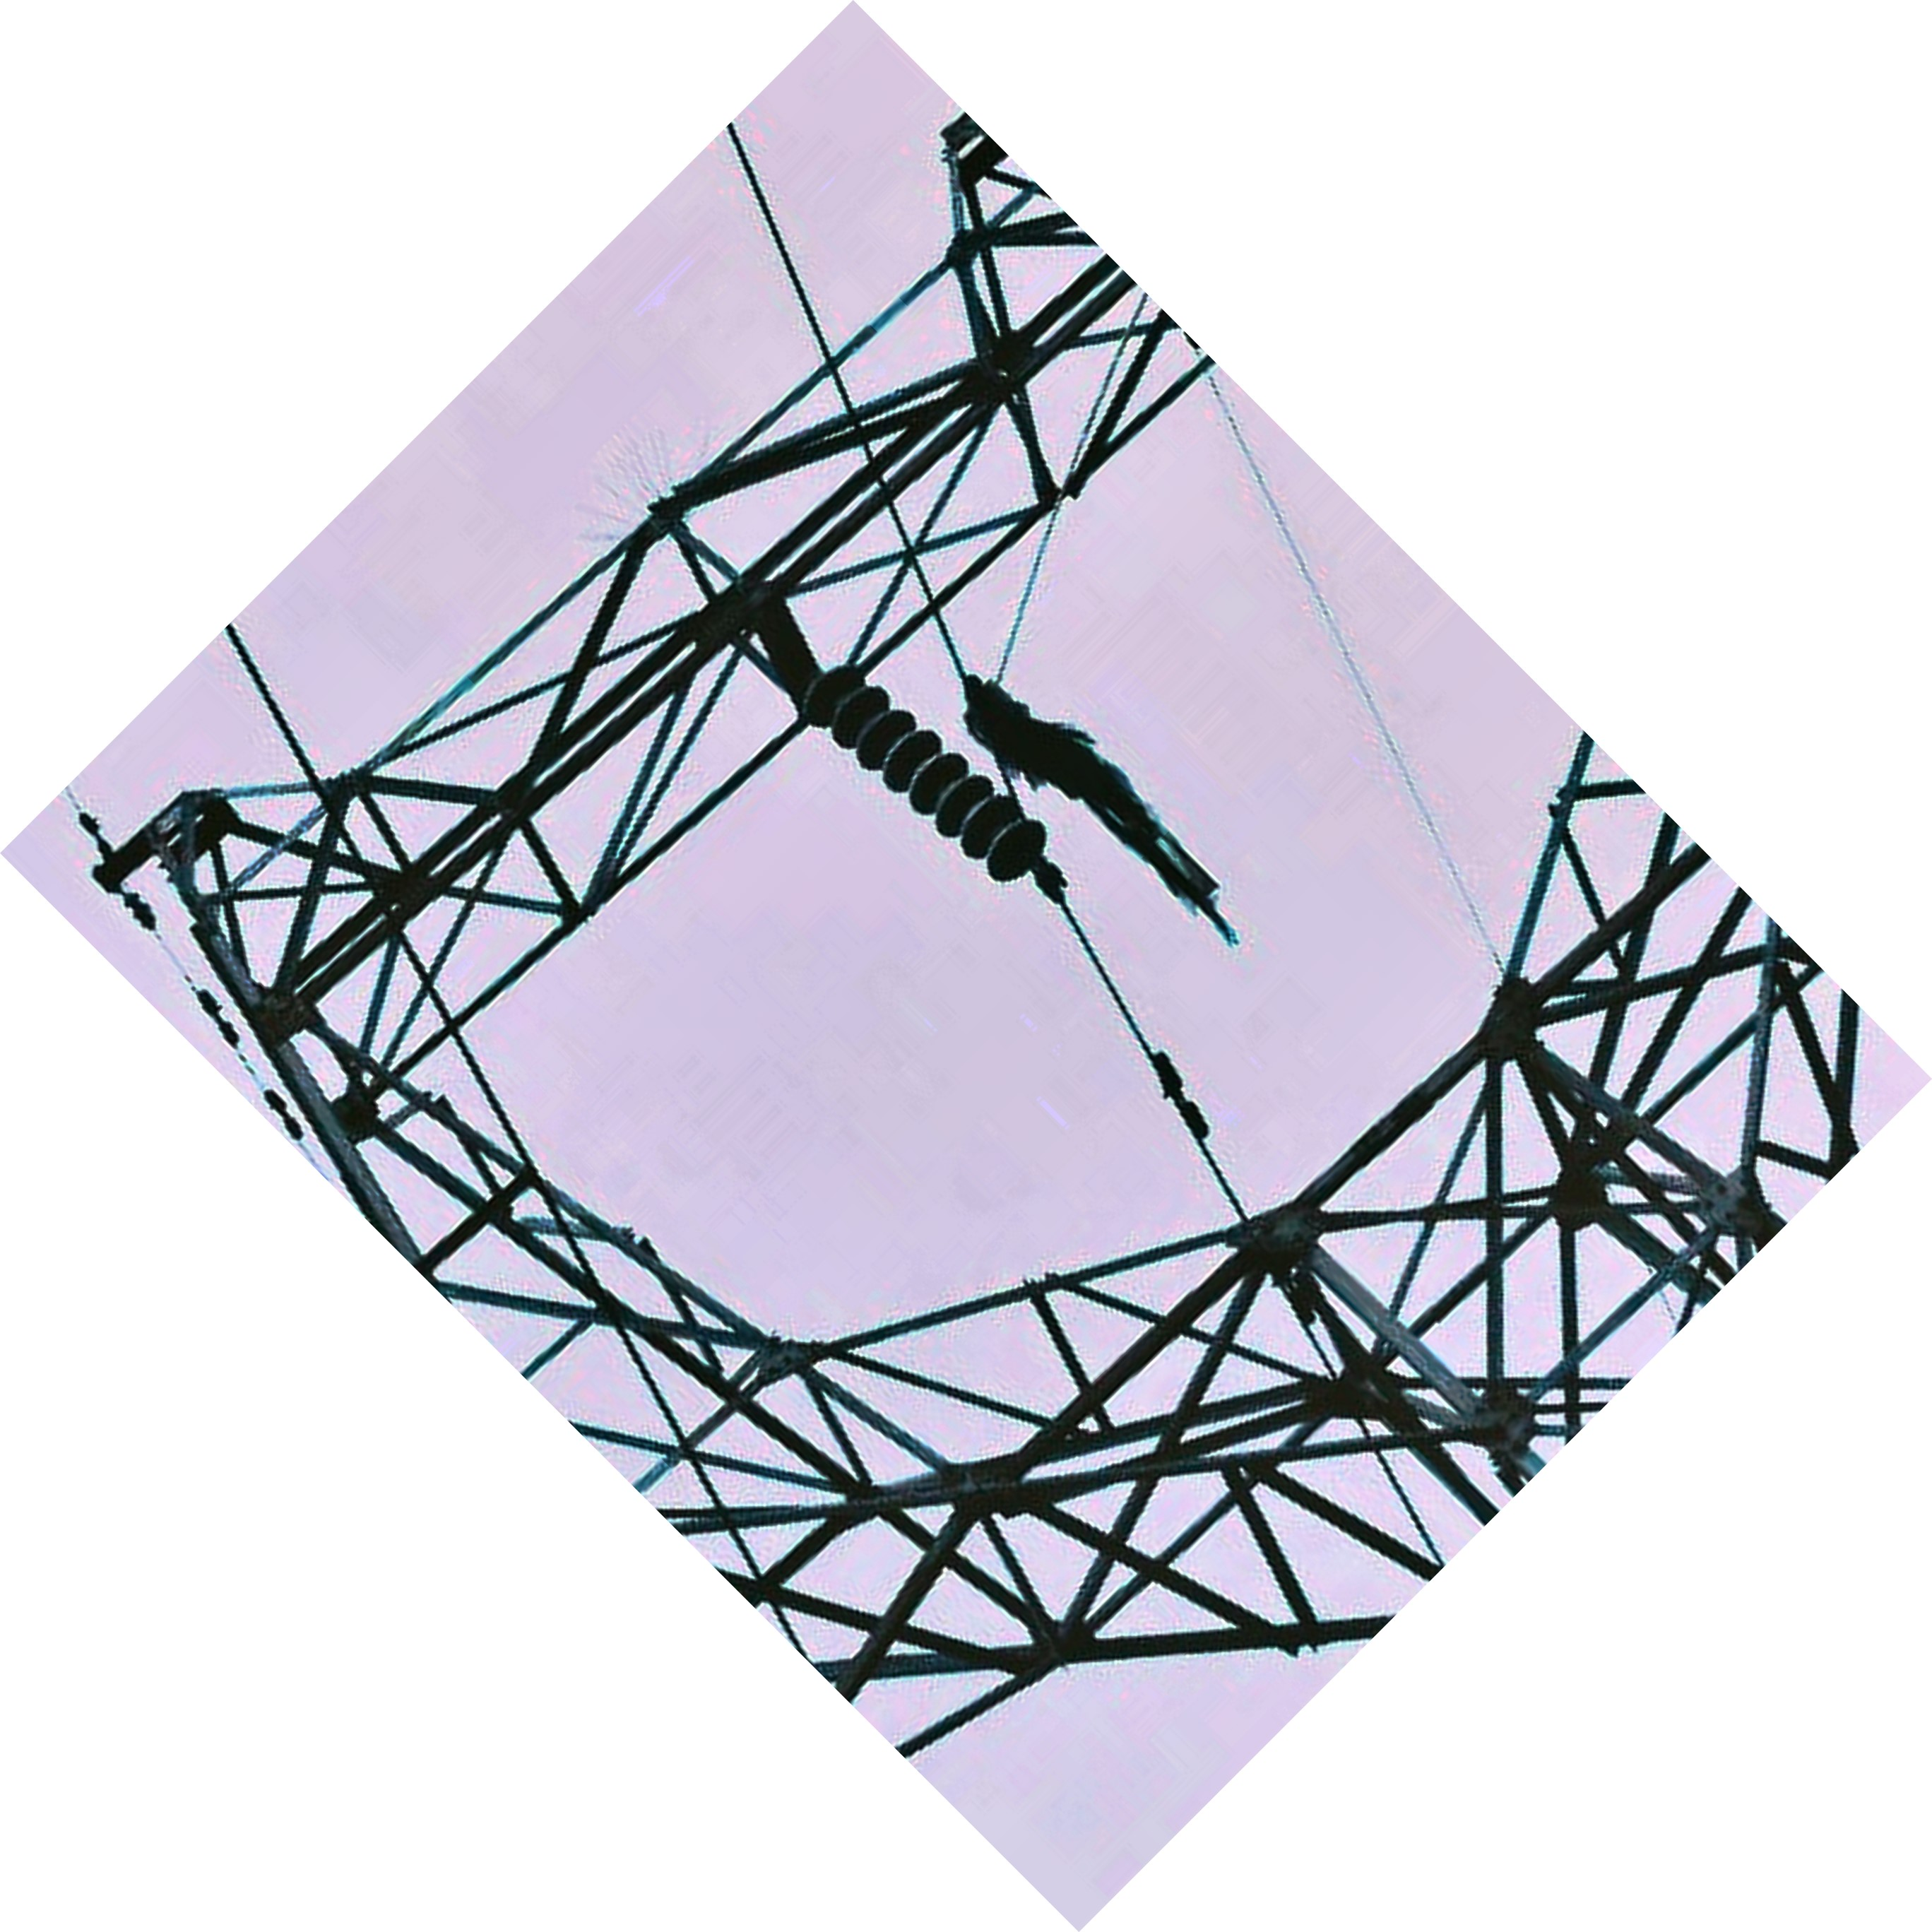wire foreign body: (952, 658, 1265, 957)
